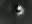person: (17, 5, 25, 18)
